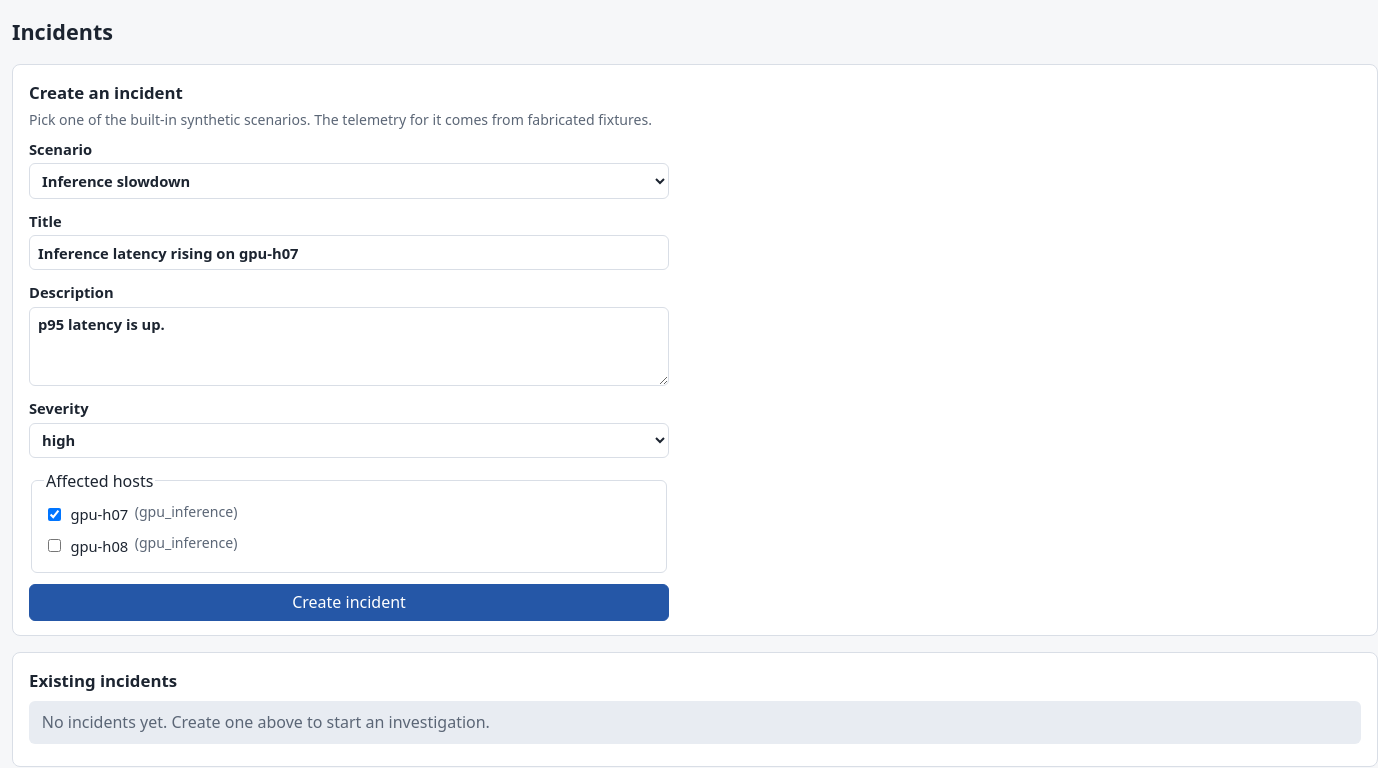
Test: IncidentsPage › cannot submit without an affected host
Click the checkbox labelled "gpu-h07 (gpu_inference)".
click(54, 514)  # box left=48, top=508, right=61, bottom=521
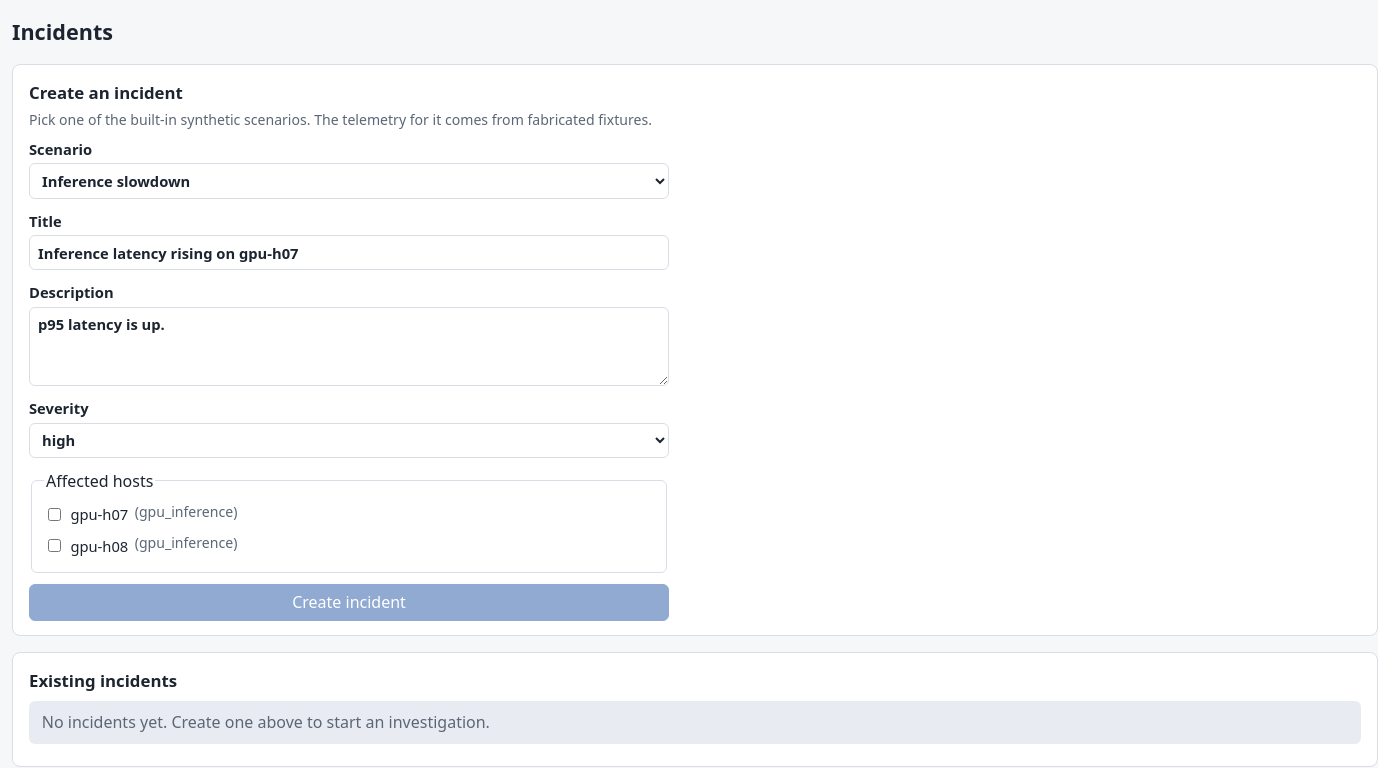
Now the button "Create incident" is disabled, box left=29, top=584, right=669, bottom=621
